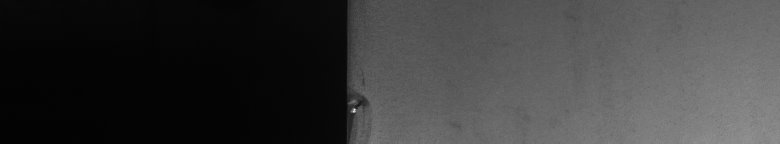hb: (356, 72, 382, 136)
